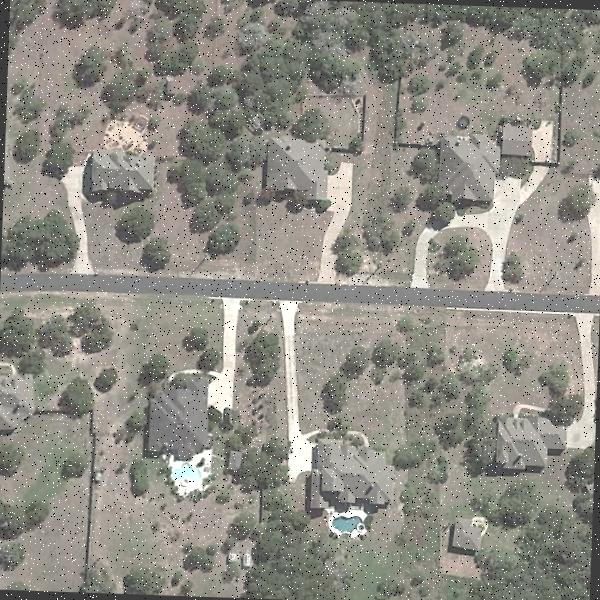Buildings: (306, 451, 389, 517), (143, 387, 210, 456), (439, 140, 506, 201), (262, 139, 325, 200), (500, 419, 560, 468), (0, 363, 36, 437), (90, 157, 150, 196)
